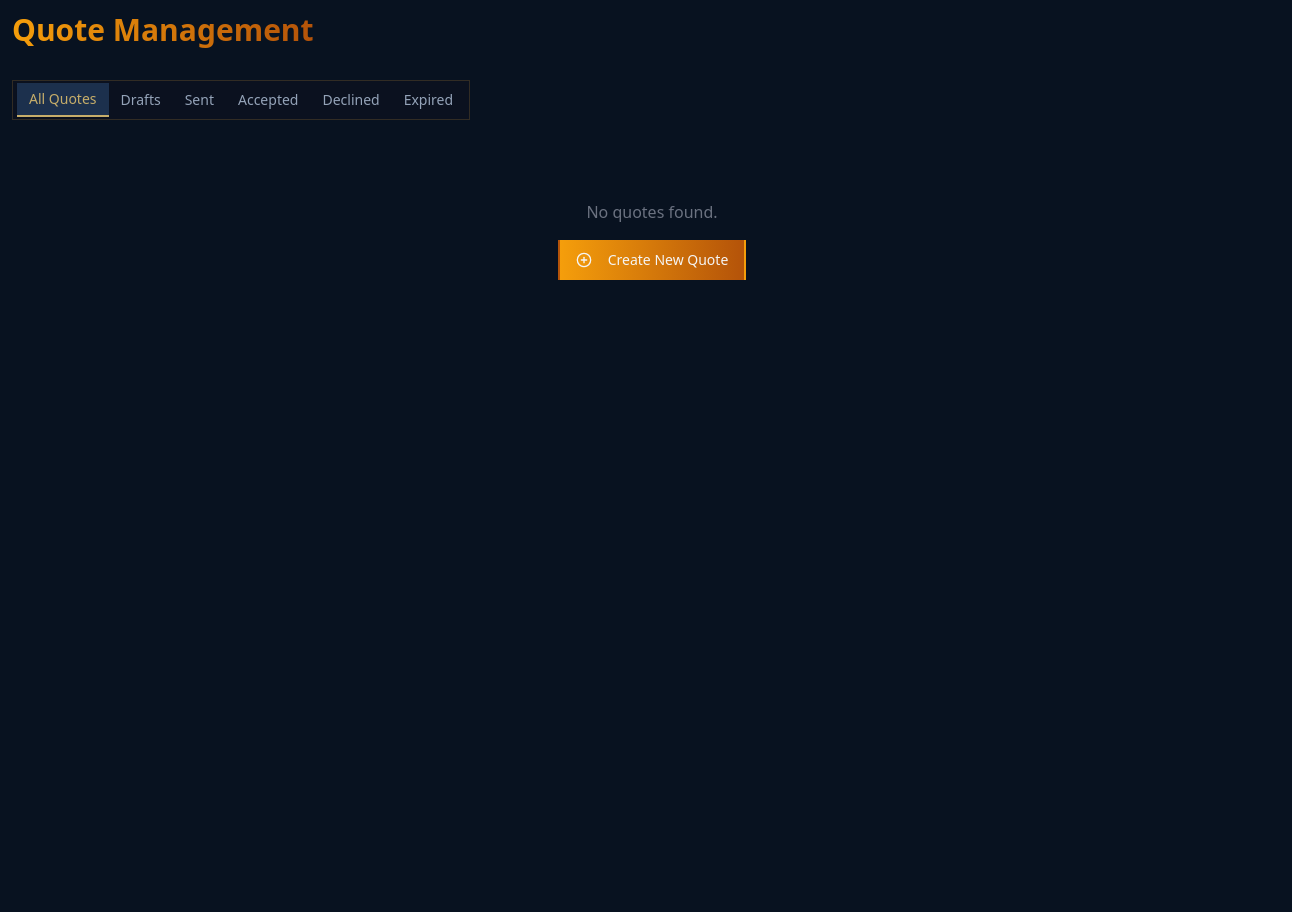
Test case: QuoteManager – validation timing › shows the Client Name error after blurring an empty Client Name field
The image size is (1292, 912).
Click the button "Create New Quote": (652, 260) [558,240,746,280]
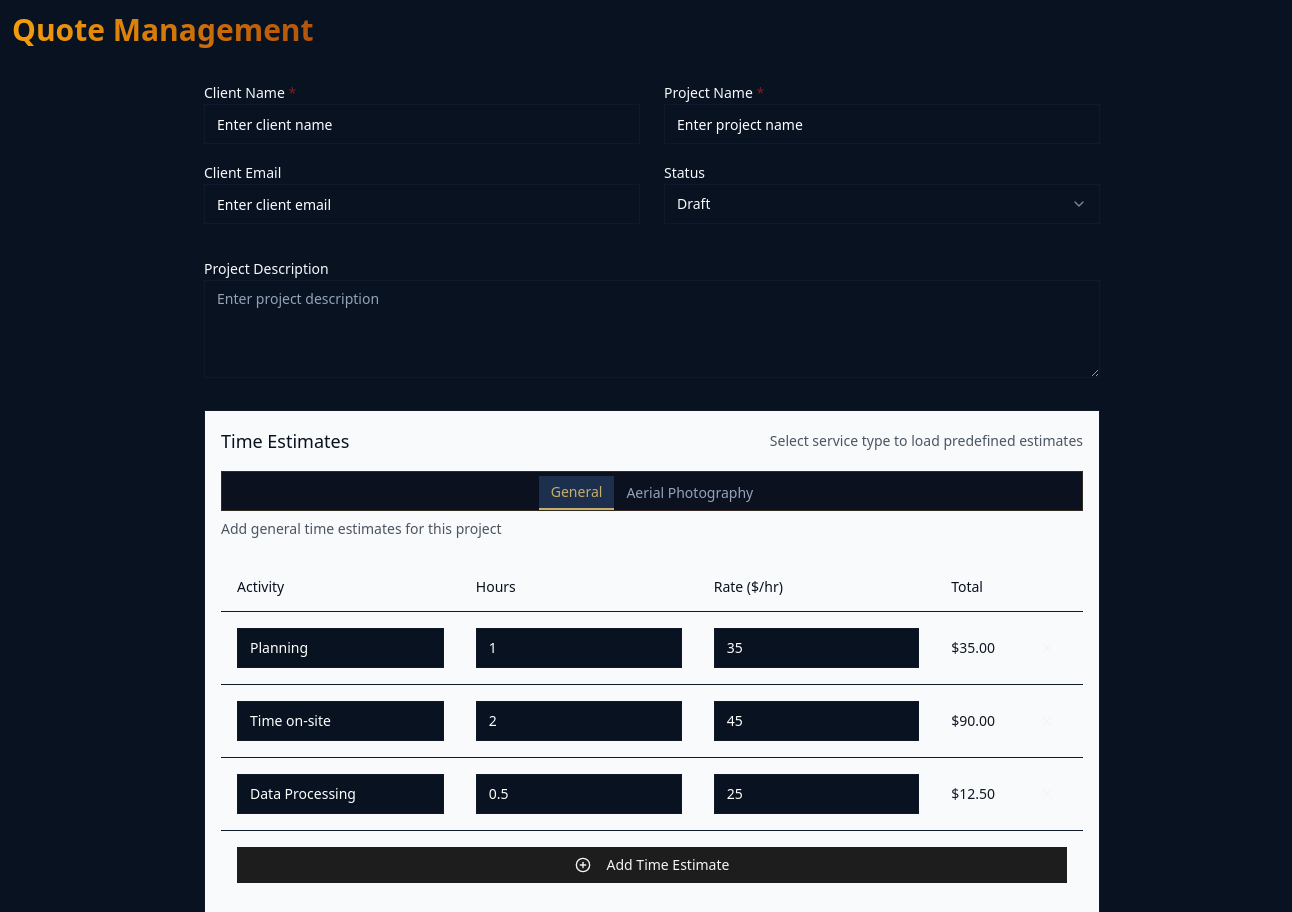
Now the field labelled "Client Name *" is shown
Now the field labelled "Project Name *" is shown, box [664,104,1100,144]
Leave the field labelled "Client Name *", box [204,104,640,144]
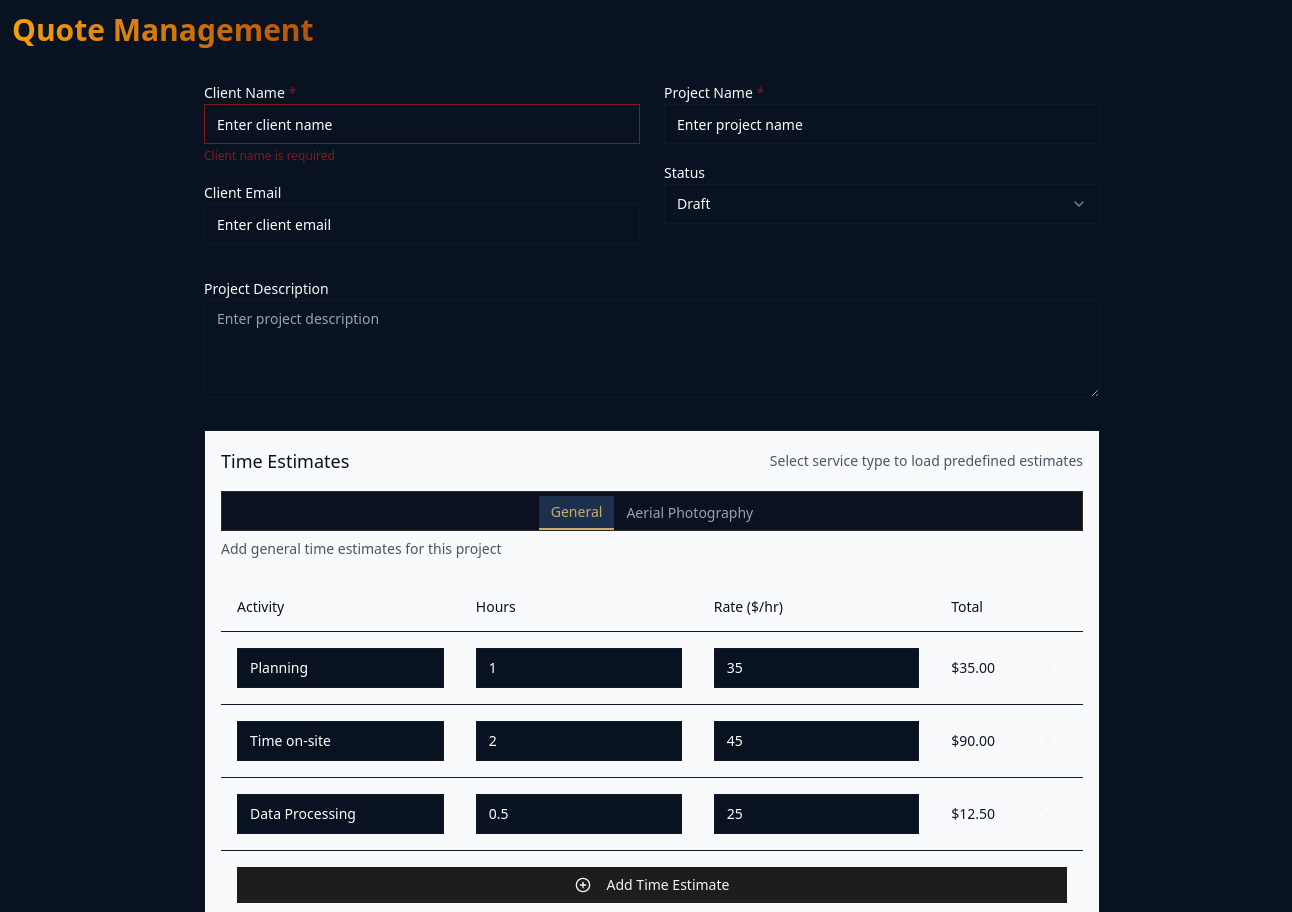
Now the text "Client name is required" is shown, box [204,147,335,164]
